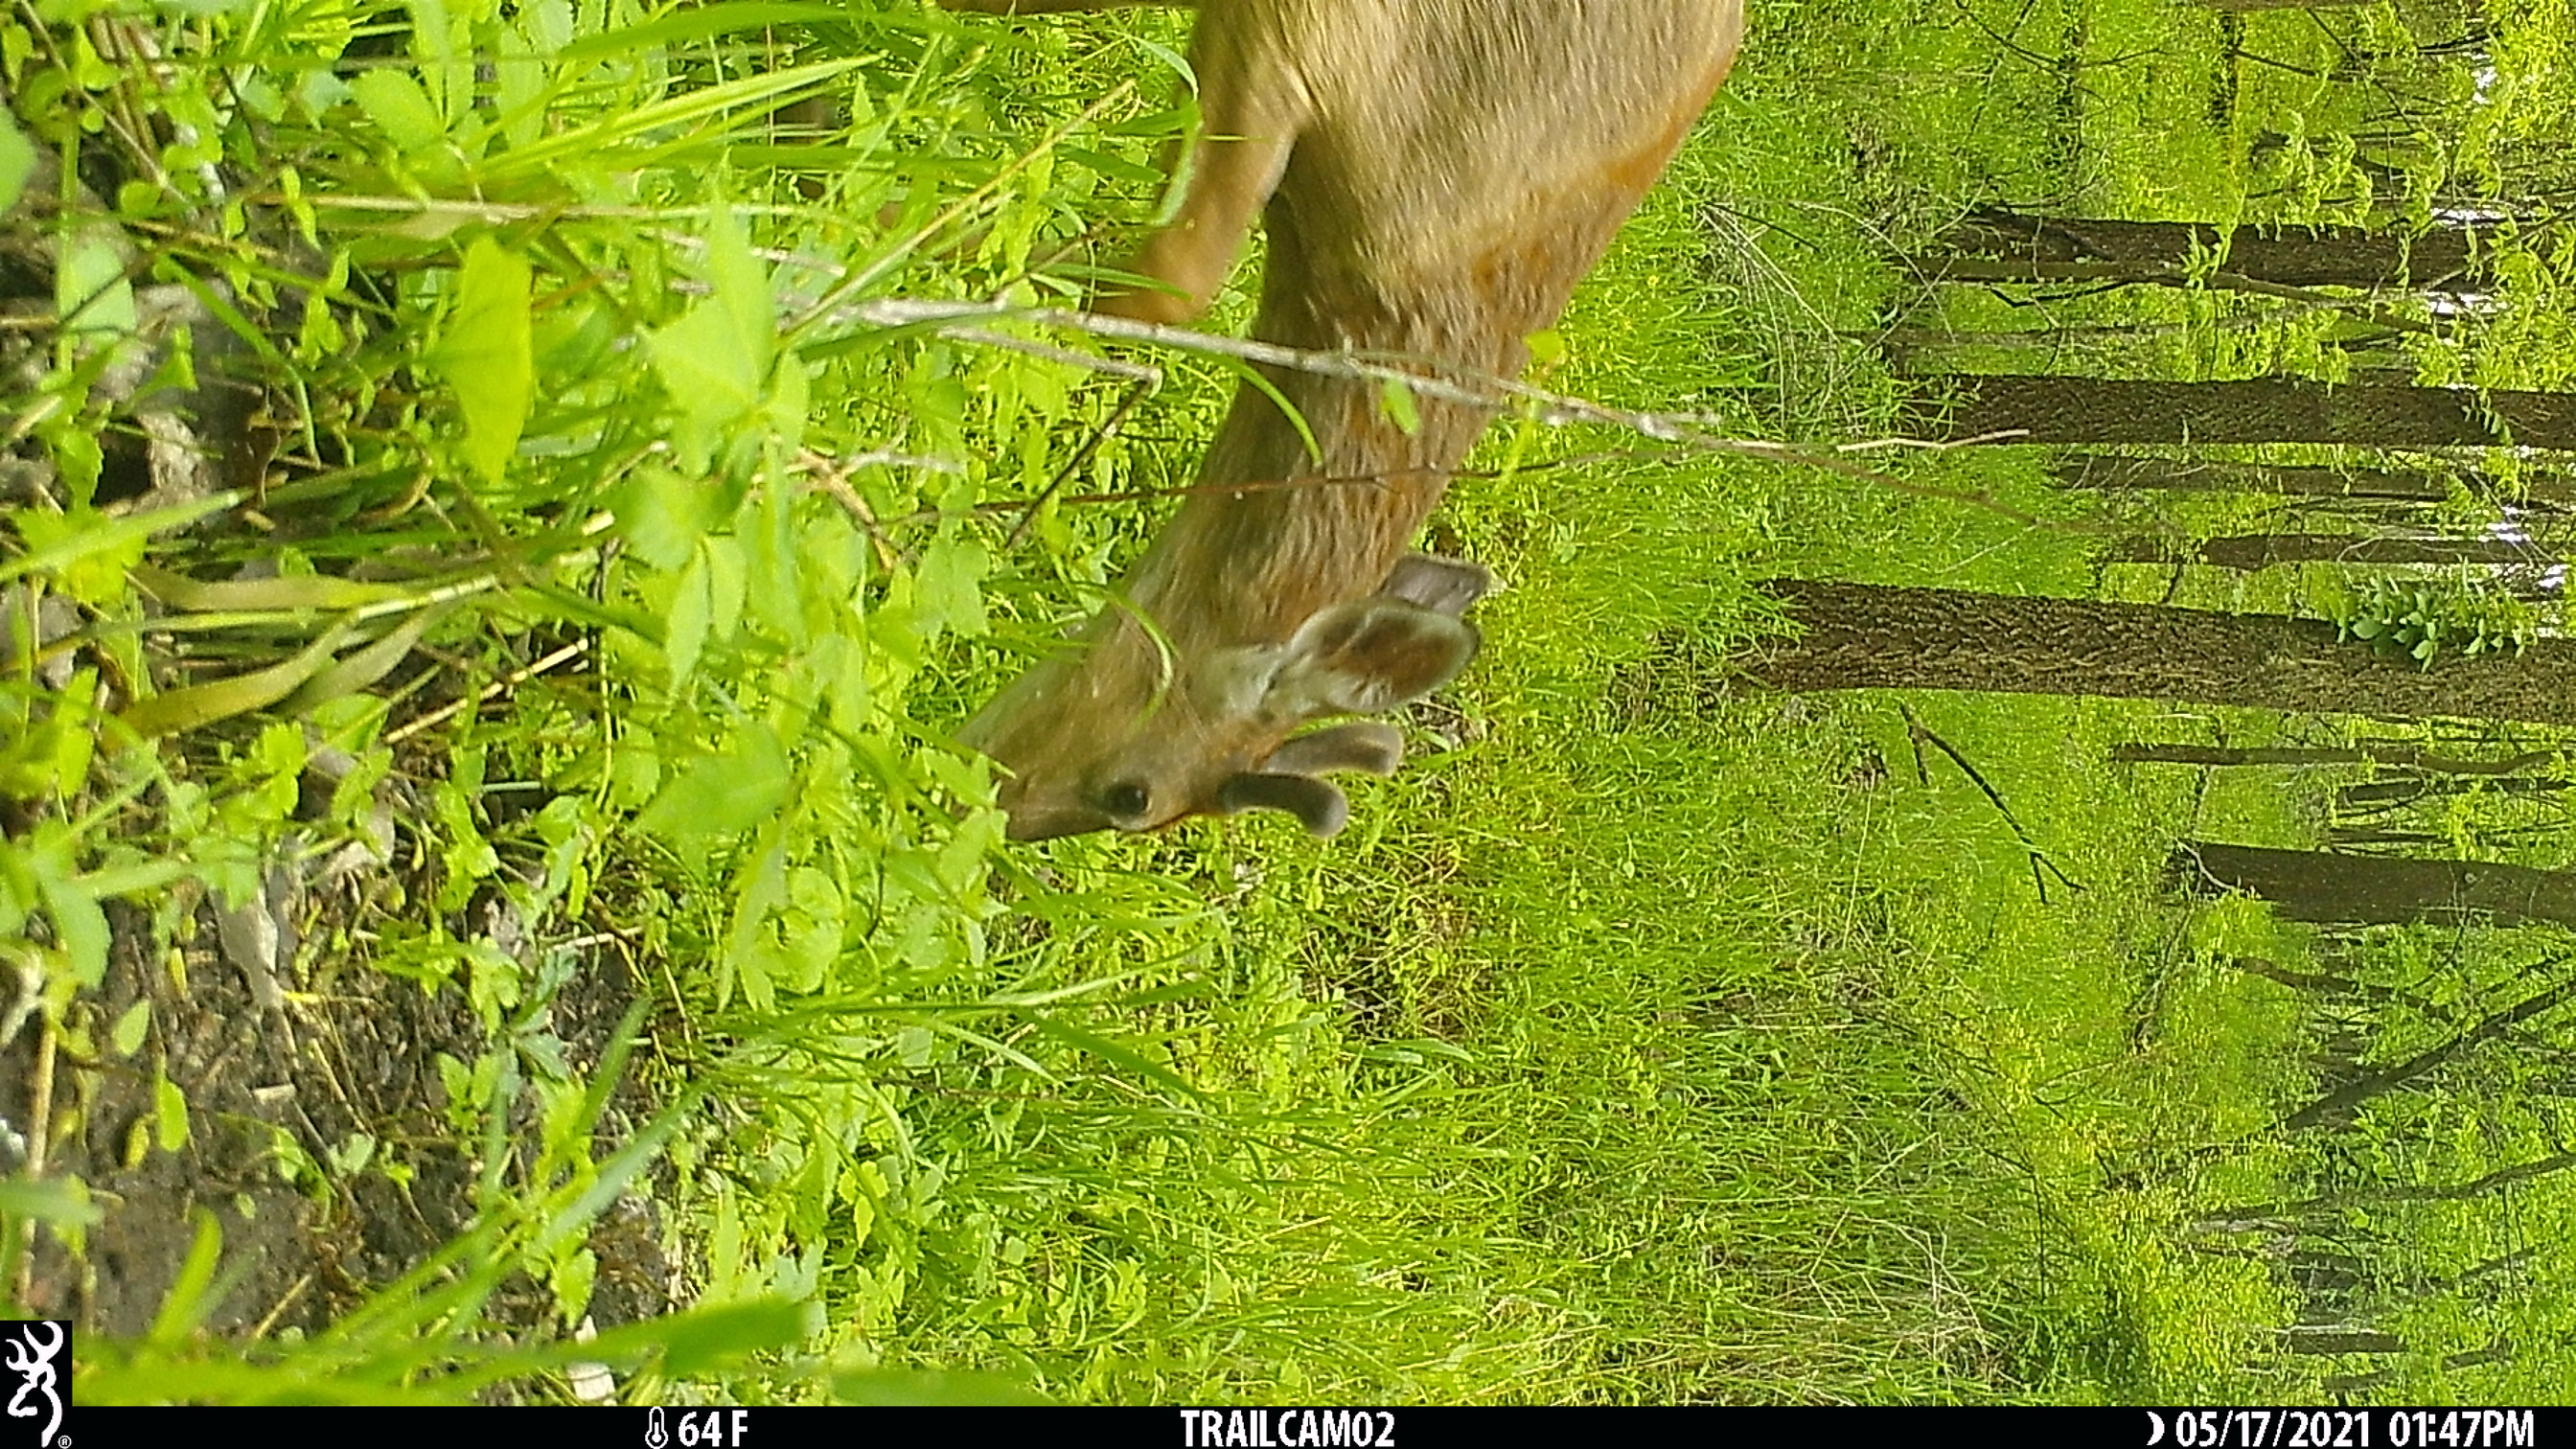DeerBuck: (918, 1, 1748, 852)
DeerBuckHead: (943, 551, 1493, 845)
